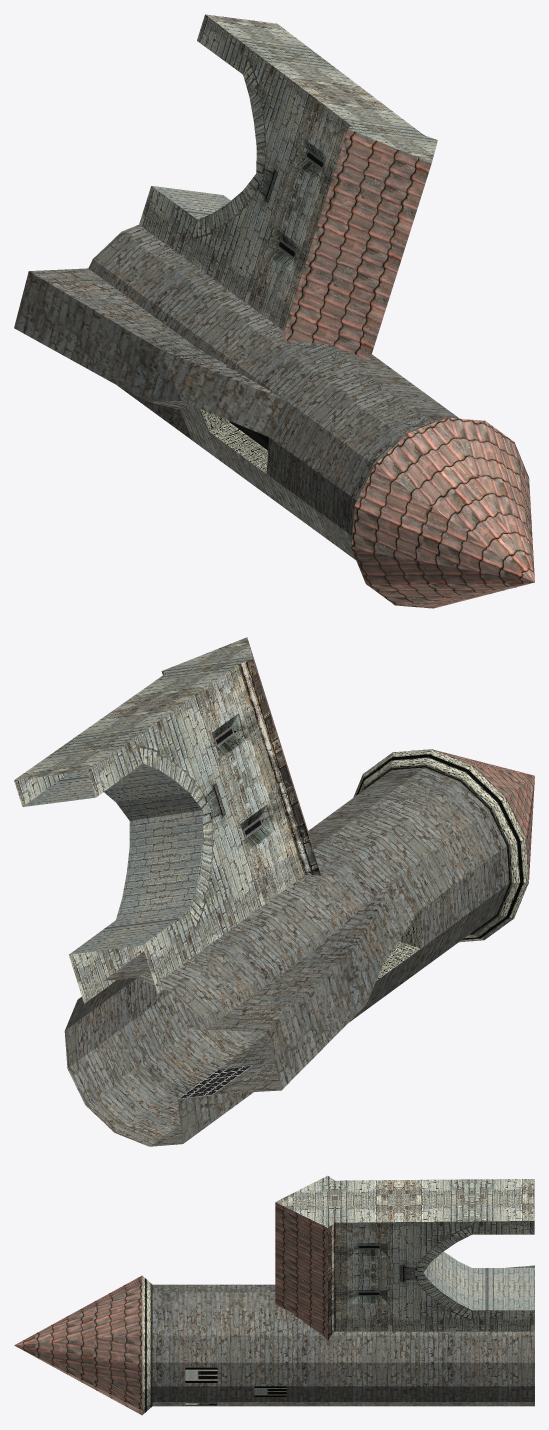
The model's file is Viru21a.obj.
3 views of the same model, one above another, from view 1: azimuth 30°, elevation 25°; view 2: azimuth 150°, elevation 25°; view 3: azimuth 270°, elevation 25° (orthographic). The views are drawn at different scales.
Visible parts, largest first — view 1: Viru21a; view 2: Viru21a; view 3: Viru21a.
Part boxes in pixels (x1,y1,x2,y2): Viru21a: (14,14,534,608); Viru21a: (14,637,534,1146); Viru21a: (14,1175,534,1415).
Bounding box in the file's own units: 6.77 × 8.76 × 16.66.
